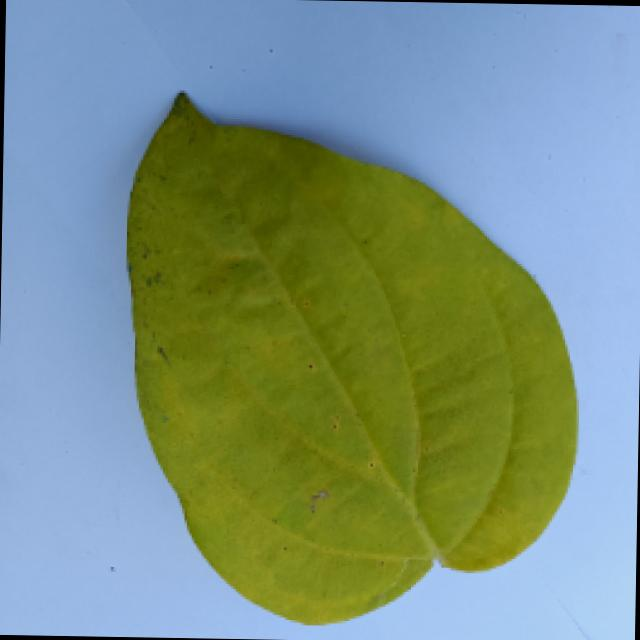slow-decline: (73, 74, 606, 616)
